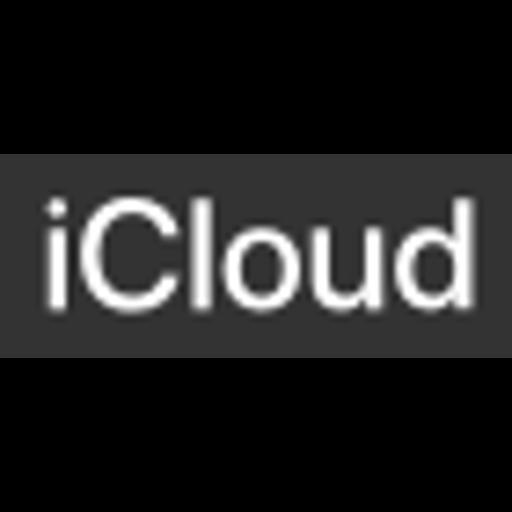Apple: (0, 154, 512, 358)
